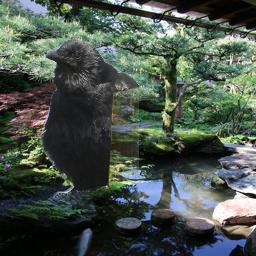Crow: (38, 38, 139, 198)
